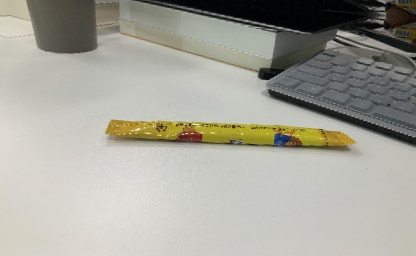jt: (104, 107, 359, 159)
